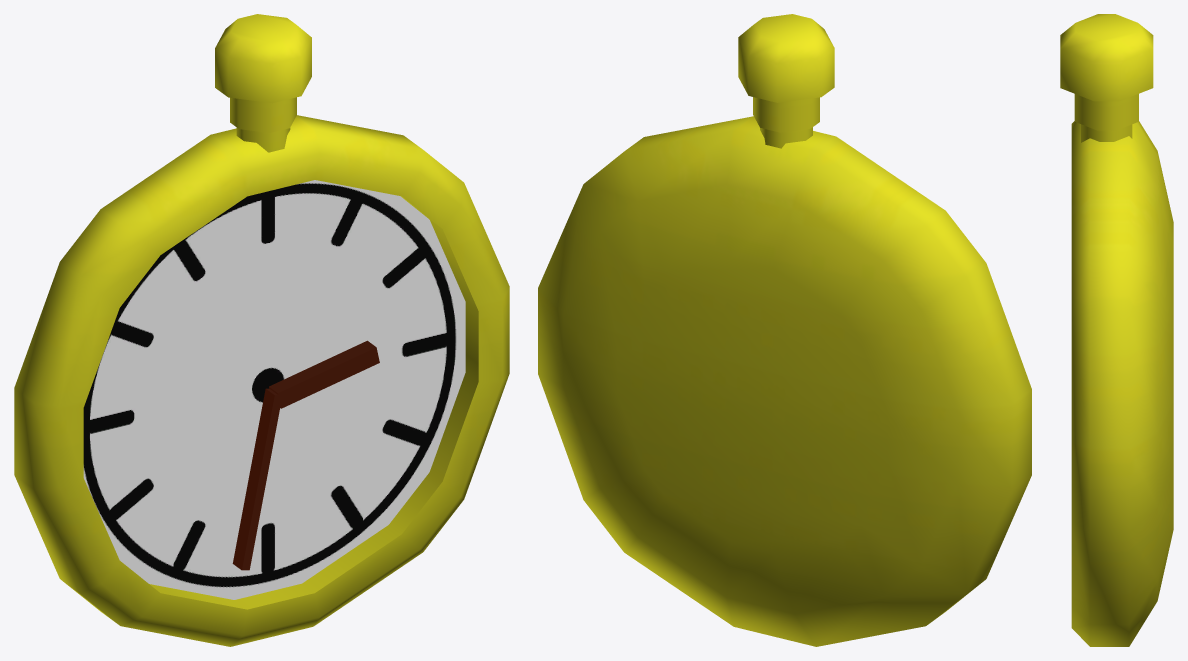
Rendered from GoldPocketWatch.fbx.
3 renders of one model, left to right at view 1: azimuth 30°, elevation 25°; view 2: azimuth 150°, elevation 25°; view 3: azimuth 270°, elevation 25°, orthographic.
Parts seen in each view (by area): view 1: Watch, Hand (×2); view 2: Watch; view 3: Watch.
Boxes of the visible parts, x1,y1,x2,y2 form: Watch: [14, 14, 509, 646]; Hand (×2): [232, 340, 379, 570]; Watch: [538, 14, 1031, 646]; Watch: [1060, 14, 1173, 646].
Size of the model in its own units: 0.6859 by 0.8306 by 0.1437.
